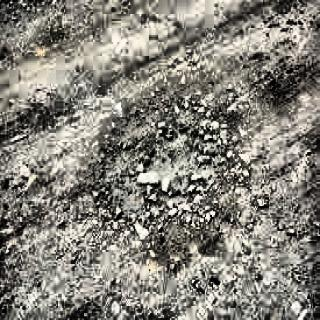pothole: (96, 92, 248, 234)
